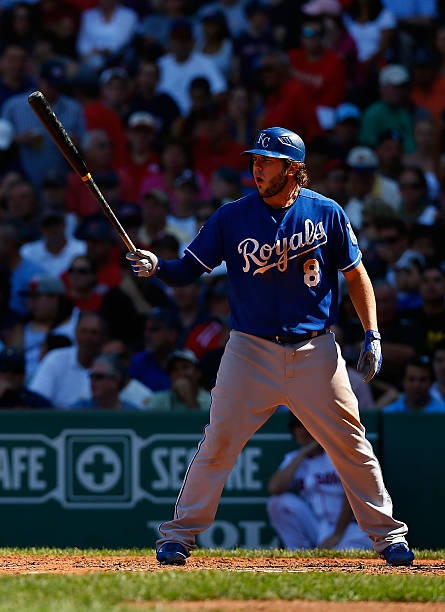bita: (32, 89, 151, 271)
